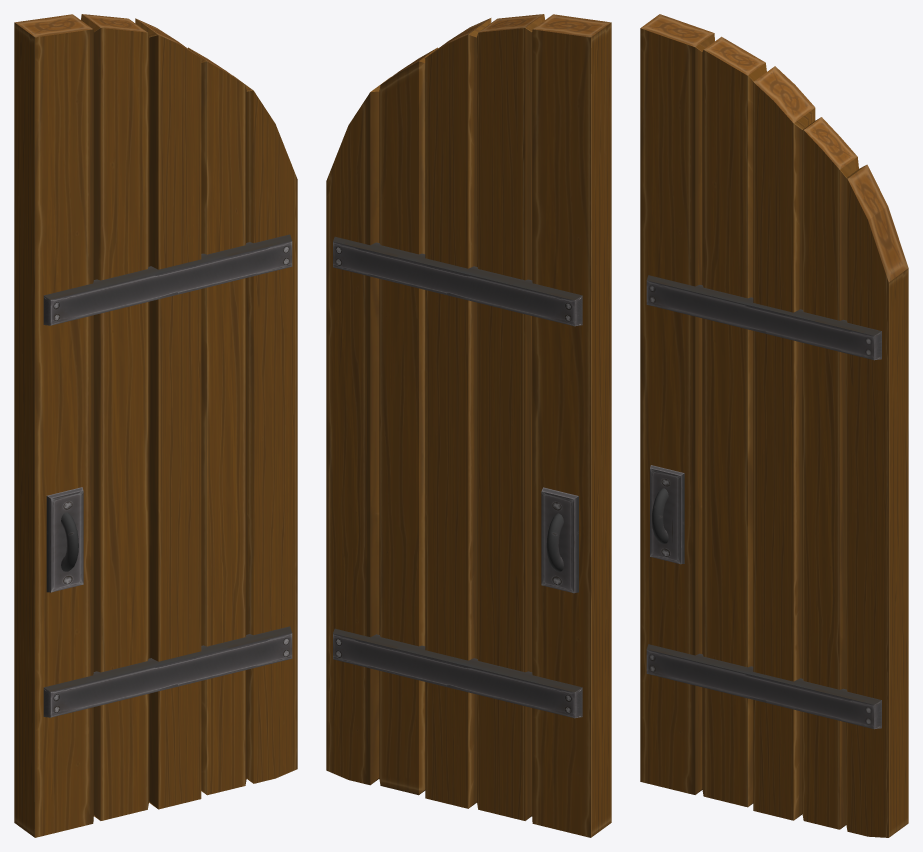
File: SM_Door_E.fbx
3 renders of one model, left to right at view 1: azimuth 30°, elevation 25°; view 2: azimuth 150°, elevation 25°; view 3: azimuth 330°, elevation 25°, orthographic. The views are drawn at different scales.
Parts seen in each view (by area): view 1: SM_Door_E; view 2: SM_Door_E; view 3: SM_Door_E.
Part boxes in pixels (x1,y1,x2,y2): SM_Door_E: [14, 14, 297, 837]; SM_Door_E: [326, 14, 611, 837]; SM_Door_E: [640, 14, 908, 837].
Size of the model in its own units: 1.09 by 3.18 by 0.3401.
